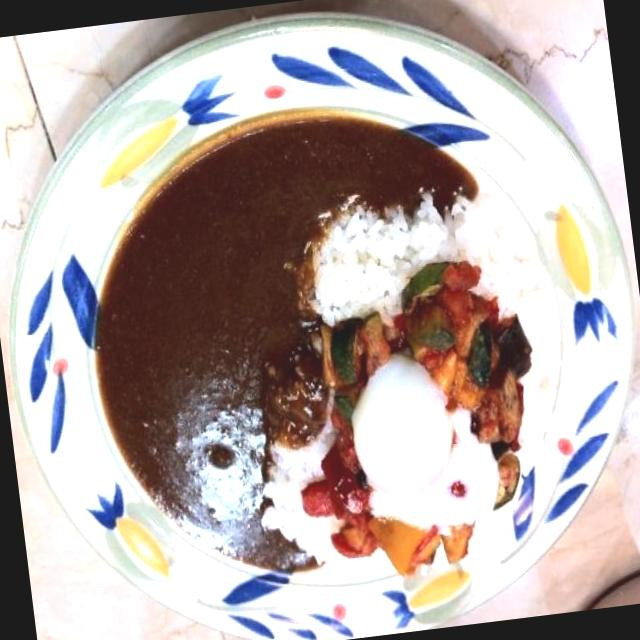Beef Curry: (91, 124, 374, 594)
